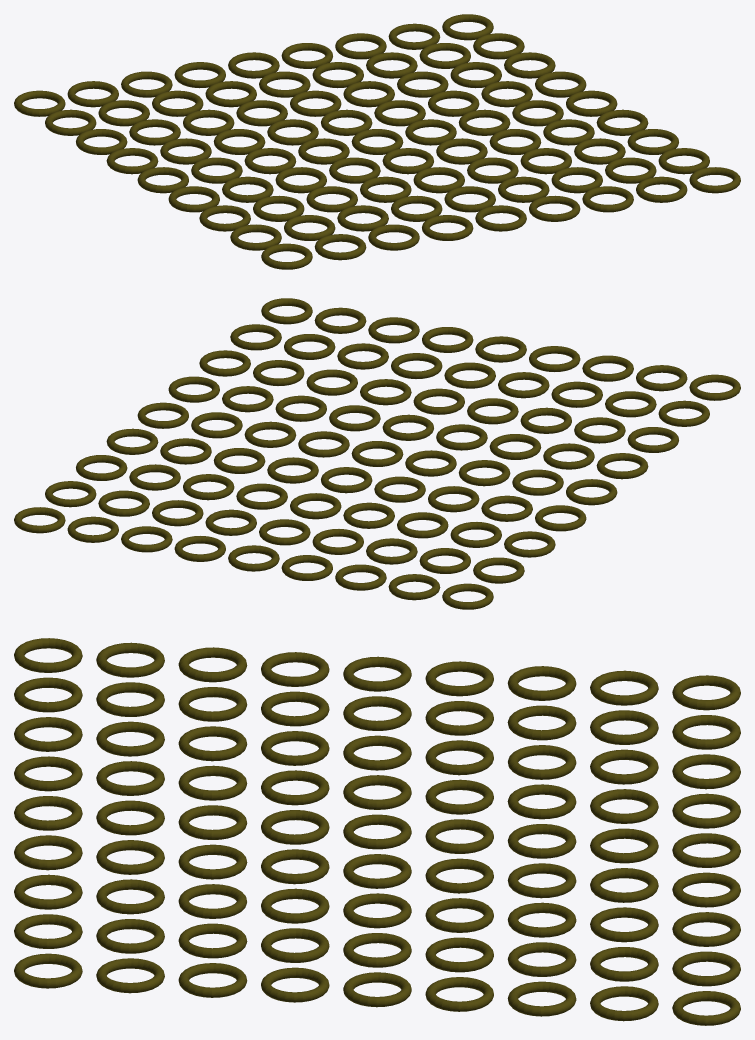
File: futureBoard.obj
The picture shows the model from 3 angles, top to bottom: view 1: azimuth 30°, elevation 25°; view 2: azimuth 150°, elevation 25°; view 3: azimuth 270°, elevation 25°; orthographic projection. The views are drawn at different scales.
Visible parts, largest first — view 1: Mesh.073_ID442, Mesh.079_ID478, Mesh.074_ID448, Mesh.078_ID472, Mesh.076_ID460, Mesh.075_ID454, Mesh.072_ID436, Mesh.061_ID370, Mesh.013_ID82, Mesh.080_ID484, Mesh.071_ID430, Mesh.052_ID316 (+69 smaller); view 2: Mesh.067_ID406, Mesh.025_ID154, Mesh.079_ID478, Mesh.064_ID388, Mesh.029_ID178, Mesh.021_ID130, Mesh.074_ID448, Mesh.065_ID394, Mesh.060_ID364, Mesh.050_ID304, Mesh.035_ID214, Mesh.026_ID160 (+69 smaller); view 3: Mesh.072_ID436, Mesh.069_ID418, Mesh.032_ID196, Mesh.019_ID118, Mesh.073_ID442, Mesh.063_ID382, Mesh.059_ID358, Mesh.056_ID340, Mesh.028_ID172, Mesh.023_ID142, Mesh.017_ID106, Mesh.016_ID100 (+69 smaller).
Boxes of the visible parts, x1,y1,x2,y2 form: Mesh.073_ID442: [475, 205, 526, 231]; Mesh.079_ID478: [368, 224, 419, 250]; Mesh.074_ID448: [582, 186, 633, 212]; Mesh.078_ID472: [261, 243, 312, 269]; Mesh.076_ID460: [314, 234, 366, 260]; Mesh.075_ID454: [689, 167, 740, 193]; Mesh.072_ID436: [636, 176, 687, 202]; Mesh.061_ID370: [199, 205, 250, 231]; Mesh.013_ID82: [504, 52, 555, 78]; Mesh.080_ID484: [529, 195, 580, 221]; Mesh.071_ID430: [337, 205, 388, 231]; Mesh.052_ID316: [168, 186, 219, 212]; Mesh.067_ID406: [230, 324, 281, 350]; Mesh.025_ID154: [473, 557, 524, 583]; Mesh.079_ID478: [582, 355, 633, 381]; Mesh.064_ID388: [444, 362, 495, 388]; Mesh.029_ID178: [121, 526, 172, 552]; Mesh.021_ID130: [259, 519, 310, 545]; Mesh.074_ID448: [368, 317, 419, 343]; Mesh.065_ID394: [337, 343, 388, 369]; Mesh.060_ID364: [574, 417, 625, 443]; Mesh.050_ID304: [543, 443, 594, 469]; Mesh.035_ID214: [335, 564, 386, 590]; Mesh.026_ID160: [366, 538, 417, 564]; Mesh.072_ID436: [14, 914, 82, 948]; Mesh.069_ID418: [96, 761, 164, 795]; Mesh.032_ID196: [672, 715, 740, 749]; Mesh.019_ID118: [590, 868, 658, 902]; Mesh.073_ID442: [14, 796, 82, 830]; Mesh.063_ID382: [96, 919, 164, 953]; Mesh.059_ID358: [178, 884, 246, 918]; Mesh.056_ID340: [178, 963, 247, 997]; Mesh.028_ID172: [672, 833, 740, 867]; Mesh.023_ID142: [590, 710, 658, 744]; Mesh.017_ID106: [508, 745, 576, 779]; Mesh.016_ID100: [507, 666, 576, 700].
Size of the model in its own units: 55.65 by 7.09 by 55.65.
